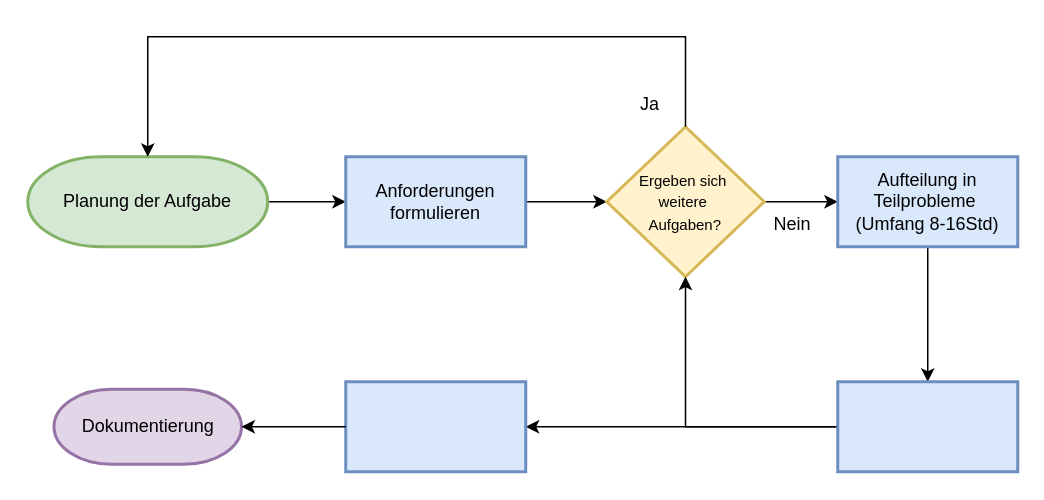
The diagram is 1044 pixels wide and 500 high, and some of its shapes have lost their labels. The box of each missing label's shape, as (x1, y1, x2, y2) in pixels:
Implementierung der Testfälle sowie der Funktionalitäten: (344, 380, 526, 472)
Testfälle ausarbeiten: (836, 380, 1018, 472)
